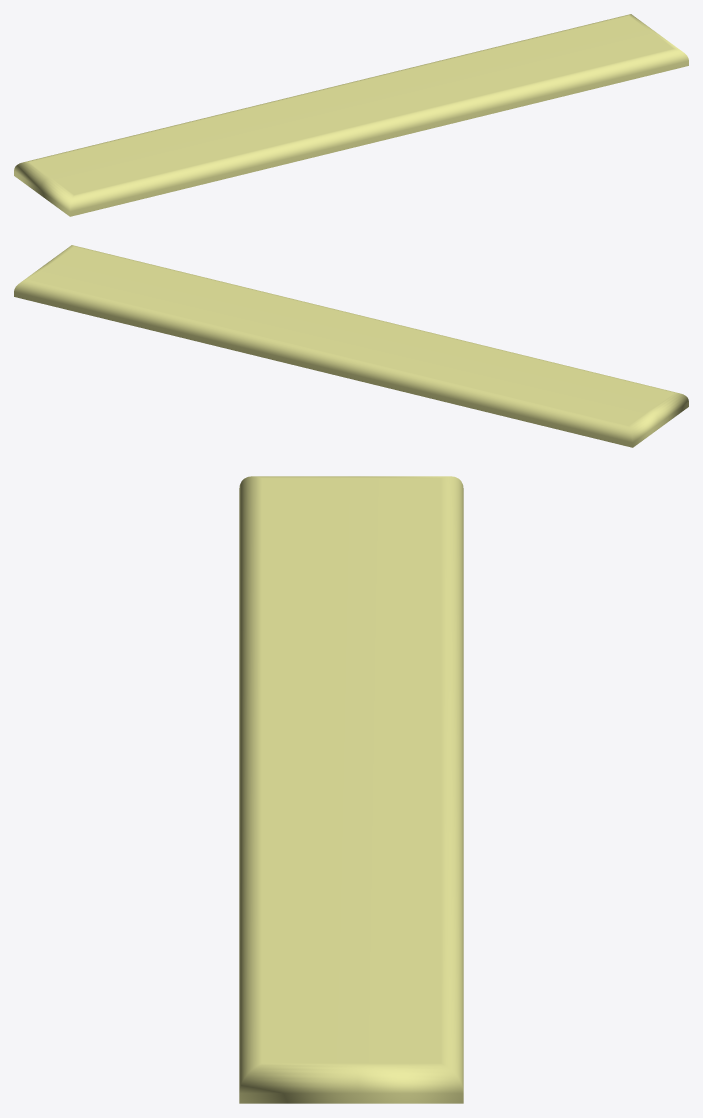
File: Table_NEW.fbx
The picture shows the model from 3 angles, top to bottom: view 1: azimuth 30°, elevation 25°; view 2: azimuth 150°, elevation 25°; view 3: azimuth 270°, elevation 25°; orthographic projection. The views are drawn at different scales.
Parts seen in each view (by area): view 1: pCube1; view 2: pCube1; view 3: pCube1.
Part boxes in pixels (<box>): pCube1: <box>14,14,688,216</box>; pCube1: <box>14,245,688,447</box>; pCube1: <box>239,476,463,1103</box>.
Size of the model in its own units: 12.89 by 0.3067 by 2.02.
